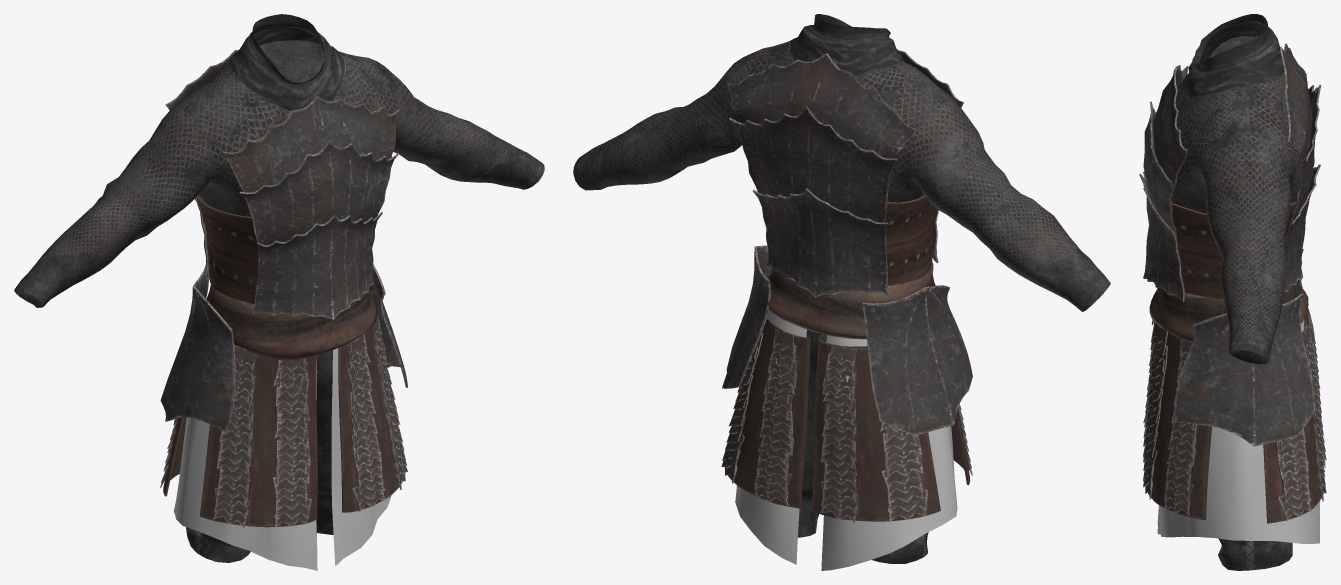
The model's file is sk_dg_uruk_chest_heavy_e.fbx.
3 views of the same model, side by side, from view 1: azimuth 30°, elevation 25°; view 2: azimuth 150°, elevation 25°; view 3: azimuth 270°, elevation 25° (orthographic). The views are drawn at different scales.
Visible parts, largest first — view 1: sk_dg_uruk_chest_heavy_e.0, sk_dg_uruk_chest_heavy_e.2, sk_dg_uruk_chest_heavy_e.skirt.1, sk_dg_uruk_chest_heavy_e.skirt.0, sk_dg_uruk_chest_heavy_e.skirt.2, sk_dg_uruk_chest_heavy_e.1; view 2: sk_dg_uruk_chest_heavy_e.0, sk_dg_uruk_chest_heavy_e.2, sk_dg_uruk_chest_heavy_e.skirt.1, sk_dg_uruk_chest_heavy_e.skirt.2, sk_dg_uruk_chest_heavy_e.skirt.0, sk_dg_uruk_chest_heavy_e.1; view 3: sk_dg_uruk_chest_heavy_e.0, sk_dg_uruk_chest_heavy_e.2, sk_dg_uruk_chest_heavy_e.skirt.1, sk_dg_uruk_chest_heavy_e.skirt.2, sk_dg_uruk_chest_heavy_e.skirt.0, sk_dg_uruk_chest_heavy_e.1.
Part boxes in pixels (x1,y1,x2,y2): sk_dg_uruk_chest_heavy_e.0: [14, 14, 544, 562]; sk_dg_uruk_chest_heavy_e.2: [165, 36, 399, 319]; sk_dg_uruk_chest_heavy_e.skirt.1: [160, 314, 407, 528]; sk_dg_uruk_chest_heavy_e.skirt.0: [173, 348, 391, 570]; sk_dg_uruk_chest_heavy_e.skirt.2: [160, 263, 407, 431]; sk_dg_uruk_chest_heavy_e.1: [206, 284, 377, 359]; sk_dg_uruk_chest_heavy_e.0: [573, 14, 1110, 563]; sk_dg_uruk_chest_heavy_e.2: [727, 49, 963, 297]; sk_dg_uruk_chest_heavy_e.skirt.1: [721, 315, 972, 522]; sk_dg_uruk_chest_heavy_e.skirt.2: [722, 245, 972, 435]; sk_dg_uruk_chest_heavy_e.skirt.0: [735, 309, 957, 570]; sk_dg_uruk_chest_heavy_e.1: [768, 263, 935, 339]; sk_dg_uruk_chest_heavy_e.0: [1171, 14, 1305, 570]; sk_dg_uruk_chest_heavy_e.2: [1139, 43, 1321, 301]; sk_dg_uruk_chest_heavy_e.skirt.1: [1143, 307, 1326, 523]; sk_dg_uruk_chest_heavy_e.skirt.2: [1174, 249, 1315, 446]; sk_dg_uruk_chest_heavy_e.skirt.0: [1157, 319, 1319, 543]; sk_dg_uruk_chest_heavy_e.1: [1149, 280, 1308, 341].
Bounding box in the file's own units: 1.35 × 0.4243 × 1.28.
